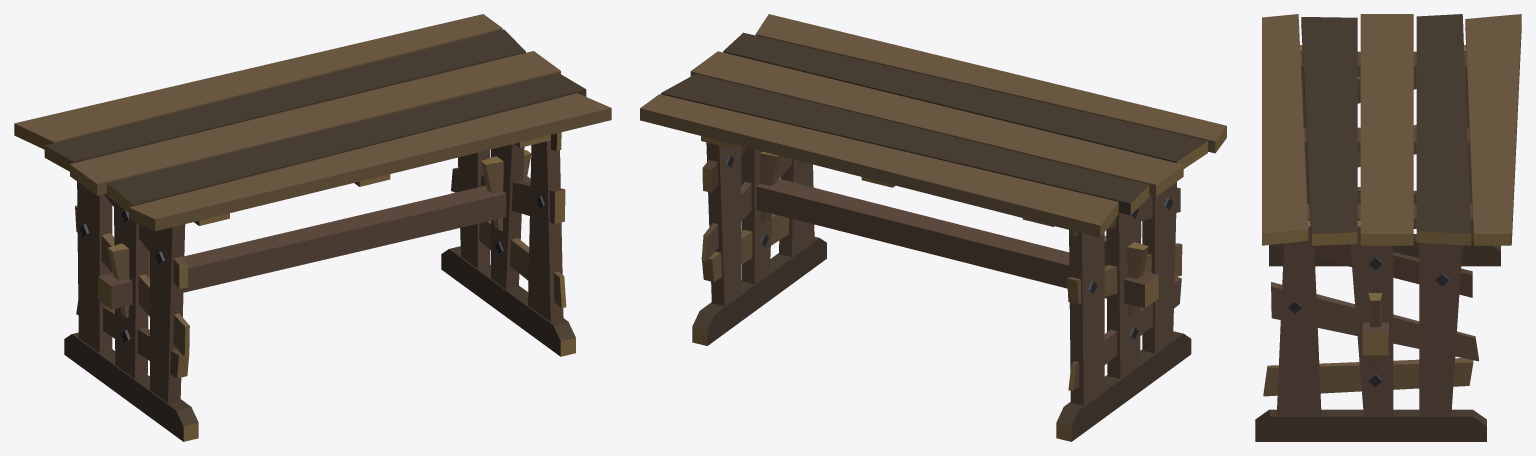
The model's file is Table_1.fbx.
3 views of the same model, side by side, from view 1: azimuth 30°, elevation 25°; view 2: azimuth 150°, elevation 25°; view 3: azimuth 270°, elevation 25° (orthographic). The views are drawn at different scales.
Parts seen in each view (by area): view 1: pCube2440; view 2: pCube2440; view 3: pCube2440.
Boxes of the visible parts, <box> form: pCube2440: <box>14,14,611,441</box>; pCube2440: <box>640,14,1226,441</box>; pCube2440: <box>1255,14,1521,441</box>.
Size of the model in its own units: 188 by 90.25 by 96.28.
